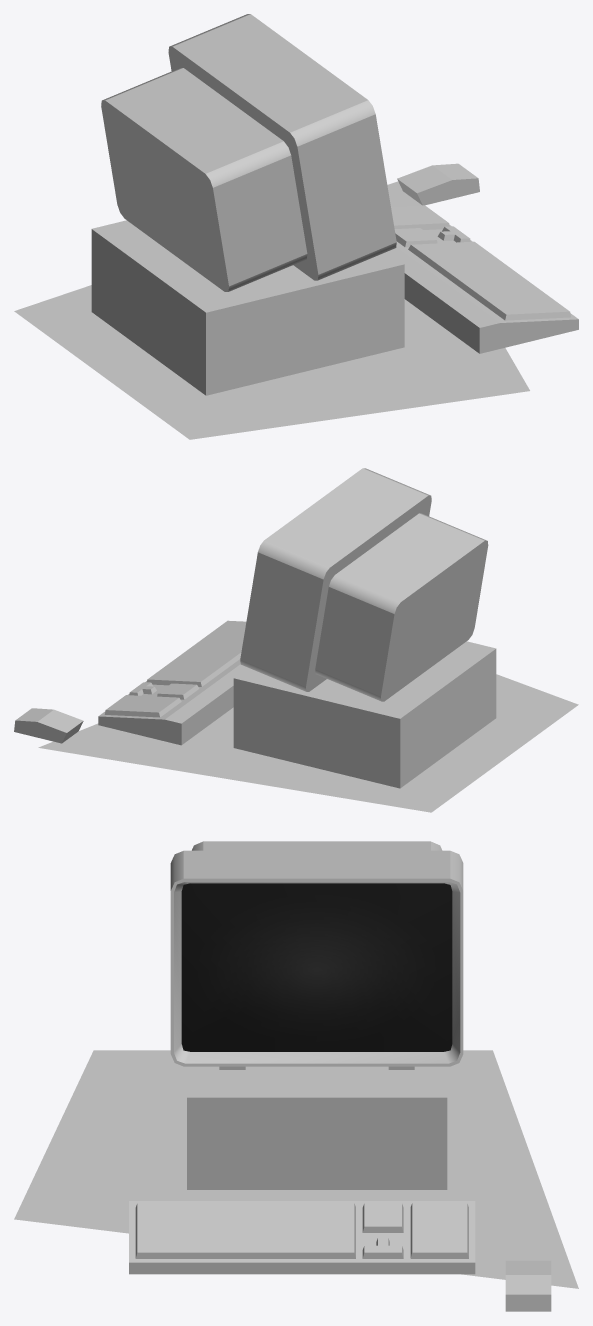
The model's file is Old Computer V3.fbx.
3 views of the same model, one above another, from view 1: azimuth 30°, elevation 25°; view 2: azimuth 150°, elevation 25°; view 3: azimuth 270°, elevation 25° (orthographic). The views are drawn at different scales.
Parts seen in each view (by area): view 1: ComputerTower-LowPoly.003; view 2: ComputerTower-LowPoly.003; view 3: ComputerTower-LowPoly.003.
Part boxes in pixels (left/top/right/bottom): ComputerTower-LowPoly.003: left=14, top=14, right=578, bottom=439; ComputerTower-LowPoly.003: left=14, top=468, right=578, bottom=812; ComputerTower-LowPoly.003: left=14, top=841, right=578, bottom=1311.
Size of the model in its own units: 86.86 by 95.07 by 49.59.
